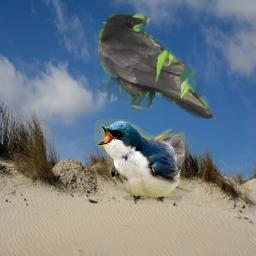Crow: (98, 13, 216, 119)
Swallow: (94, 118, 185, 204)
